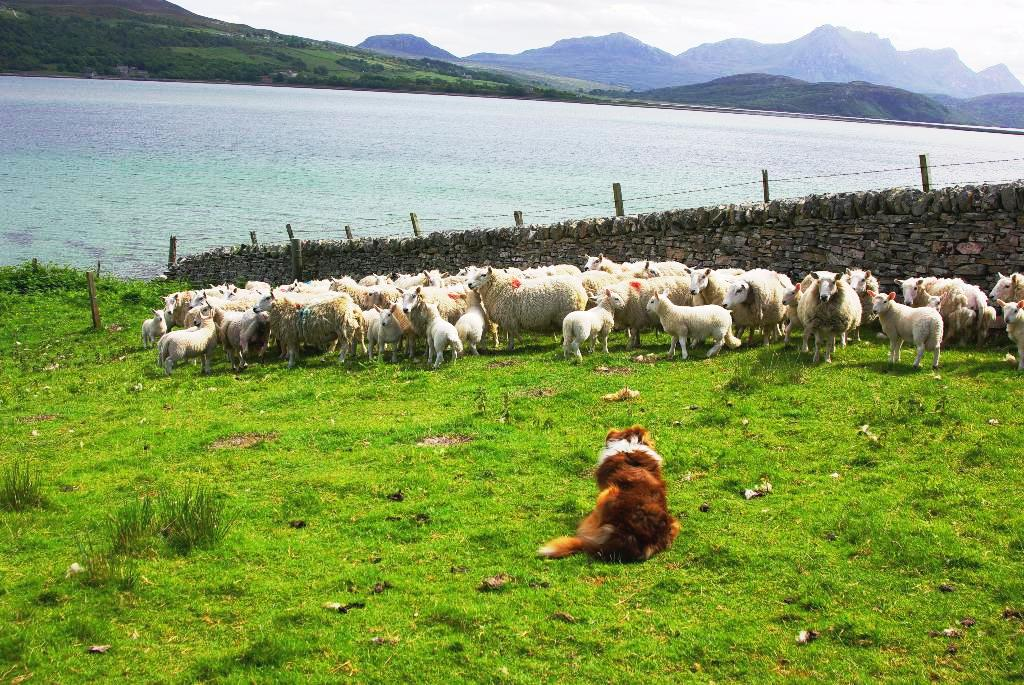Sheep: (469, 262, 593, 353), (248, 276, 364, 356), (641, 289, 747, 372), (868, 274, 951, 372), (721, 268, 799, 343), (808, 264, 856, 372), (416, 296, 472, 388), (390, 269, 470, 333), (160, 306, 228, 368), (561, 290, 623, 353), (897, 266, 970, 318), (983, 259, 1024, 316)
